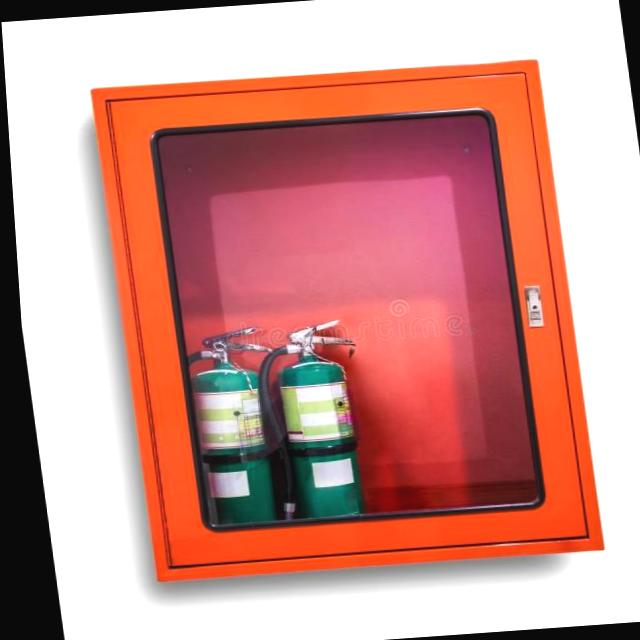FireExtinguisher: (154, 322, 294, 539), (241, 314, 377, 536)
